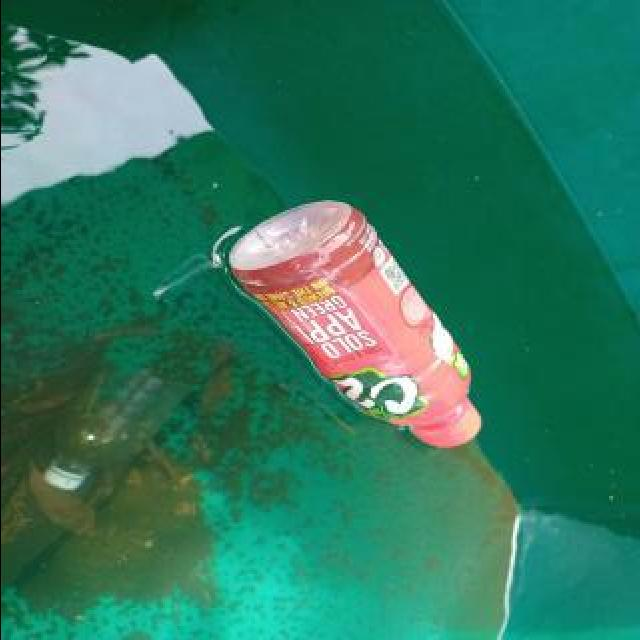Bottle: (222, 193, 488, 458)
